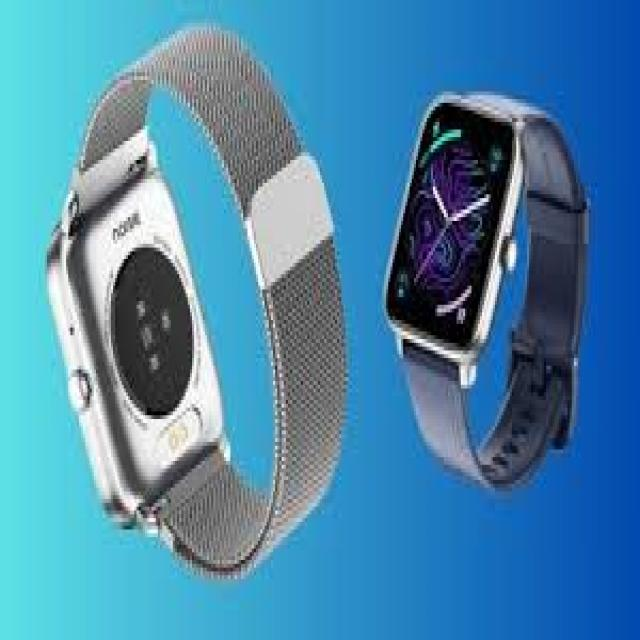objects: (0, 0, 638, 636), (0, 4, 638, 629), (45, 30, 346, 571), (384, 95, 587, 488)
